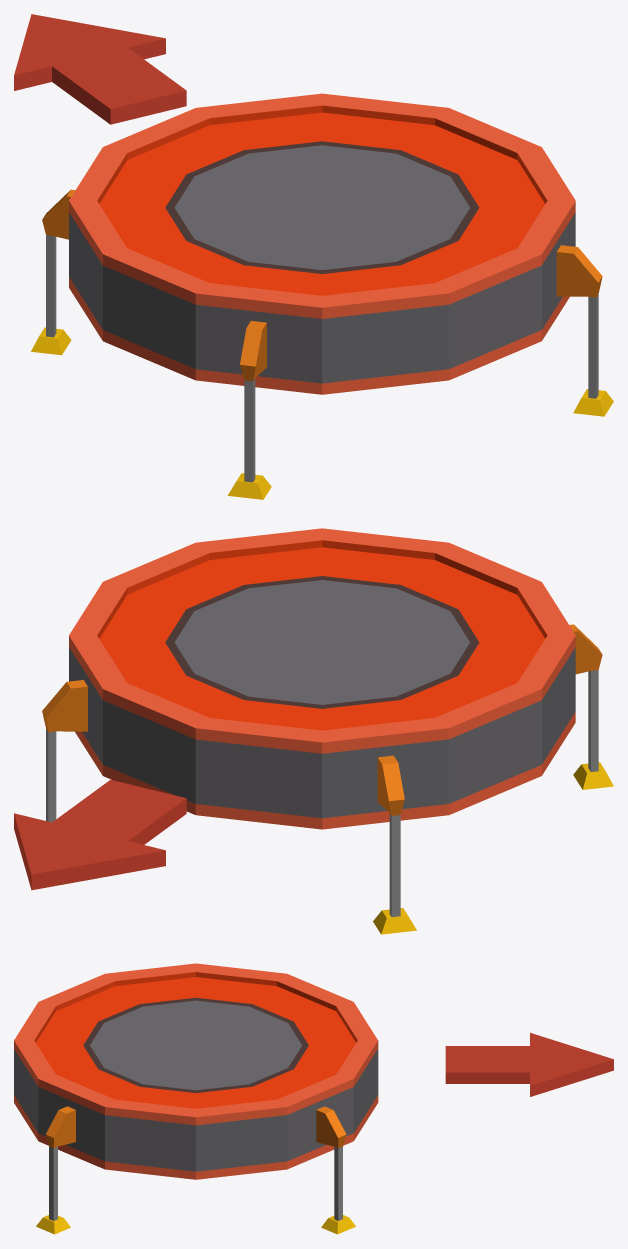
Rendered from Horizontal_Platform_Genesis.glb.
The picture shows the model from 3 angles, top to bottom: view 1: azimuth 30°, elevation 25°; view 2: azimuth 150°, elevation 25°; view 3: azimuth 270°, elevation 25°; orthographic projection. The views are drawn at different scales.
Parts seen in each view (by area): view 1: Genesis_PlatformDrone, Plane.002; view 2: Genesis_PlatformDrone, Plane.002; view 3: Genesis_PlatformDrone, Plane.002.
Boxes of the visible parts, left/top/right/bottom form: Genesis_PlatformDrone: left=31, top=93, right=613, bottom=499; Plane.002: left=14, top=14, right=186, bottom=124; Genesis_PlatformDrone: left=42, top=528, right=613, bottom=934; Plane.002: left=14, top=779, right=186, bottom=890; Genesis_PlatformDrone: left=14, top=963, right=378, bottom=1234; Plane.002: left=445, top=1032, right=613, bottom=1096.
Bounding box in the file's own units: 2 × 0.766 × 3.3.
Materials: 1 (1 with a texture image).
